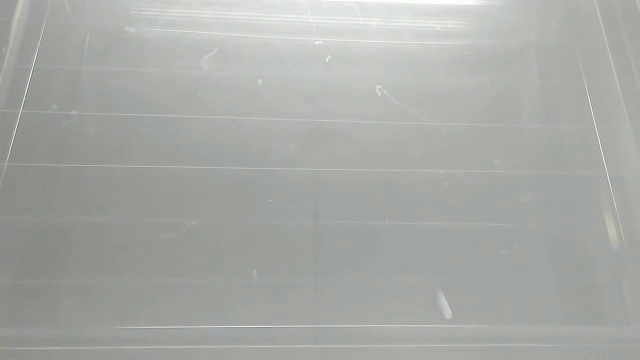alpha: (433, 283, 455, 321)
